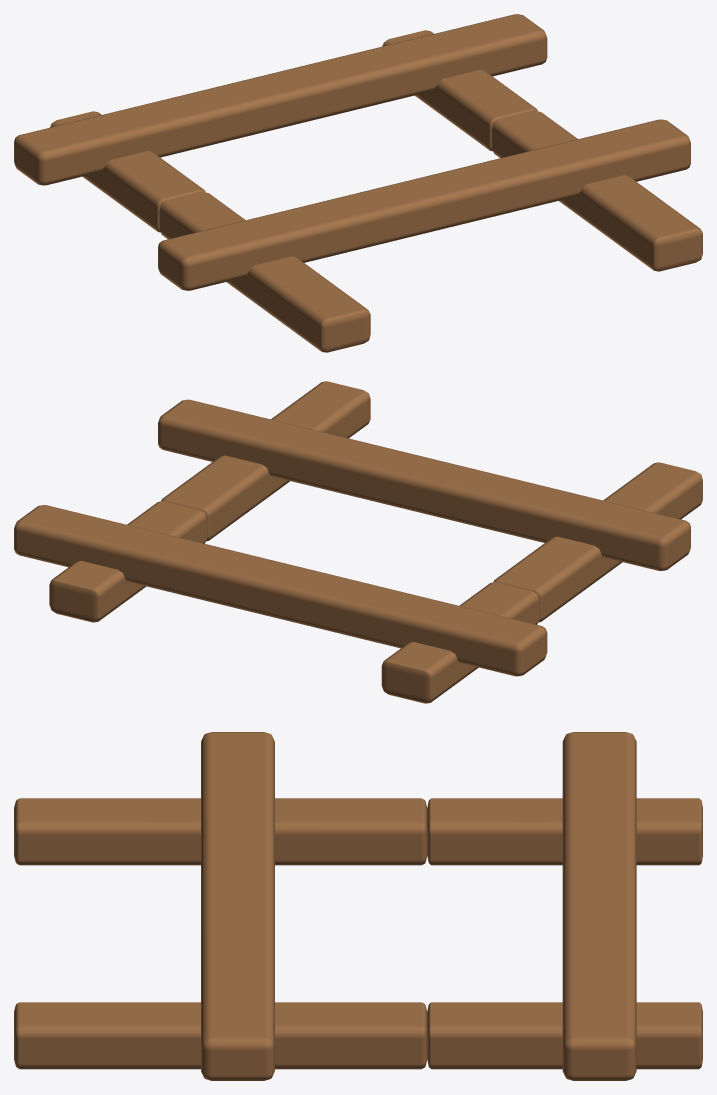
File: expedition_shelf.glb
3 renders of one model, top to bottom at view 1: azimuth 30°, elevation 25°; view 2: azimuth 150°, elevation 25°; view 3: azimuth 270°, elevation 25°, orthographic. The views are drawn at different scales.
Parts seen in each view (by area): view 1: MiddleSupport, RearSupport; view 2: MiddleSupport, RearSupport; view 3: MiddleSupport, RearSupport.
Boxes of the visible parts, box(x1,y1,x2,y2) form: MiddleSupport: box(158, 111, 702, 352); RearSupport: box(14, 14, 547, 232); MiddleSupport: box(158, 381, 702, 622); RearSupport: box(14, 501, 547, 703); MiddleSupport: box(14, 732, 427, 1080); RearSupport: box(427, 732, 702, 1080).
Bounding box in the file's own units: 0.86 × 0.091 × 0.8.
